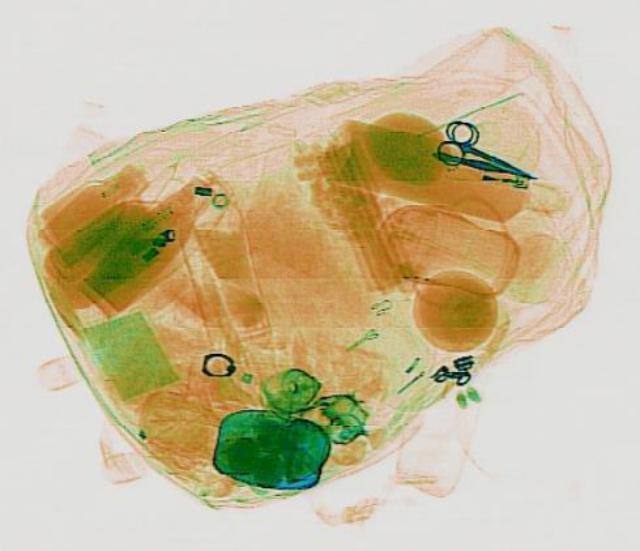Scissors: (424, 114, 548, 196)
